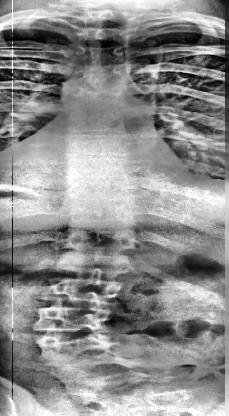Vertebrae: (30, 332, 138, 364), (46, 272, 128, 304), (63, 224, 150, 249), (31, 303, 121, 327), (59, 252, 135, 278), (67, 200, 138, 225), (62, 108, 134, 132), (62, 178, 139, 200), (60, 134, 136, 156), (64, 83, 132, 107), (65, 155, 135, 177), (64, 64, 132, 84), (66, 44, 132, 64), (70, 23, 132, 43), (80, 5, 136, 22)
